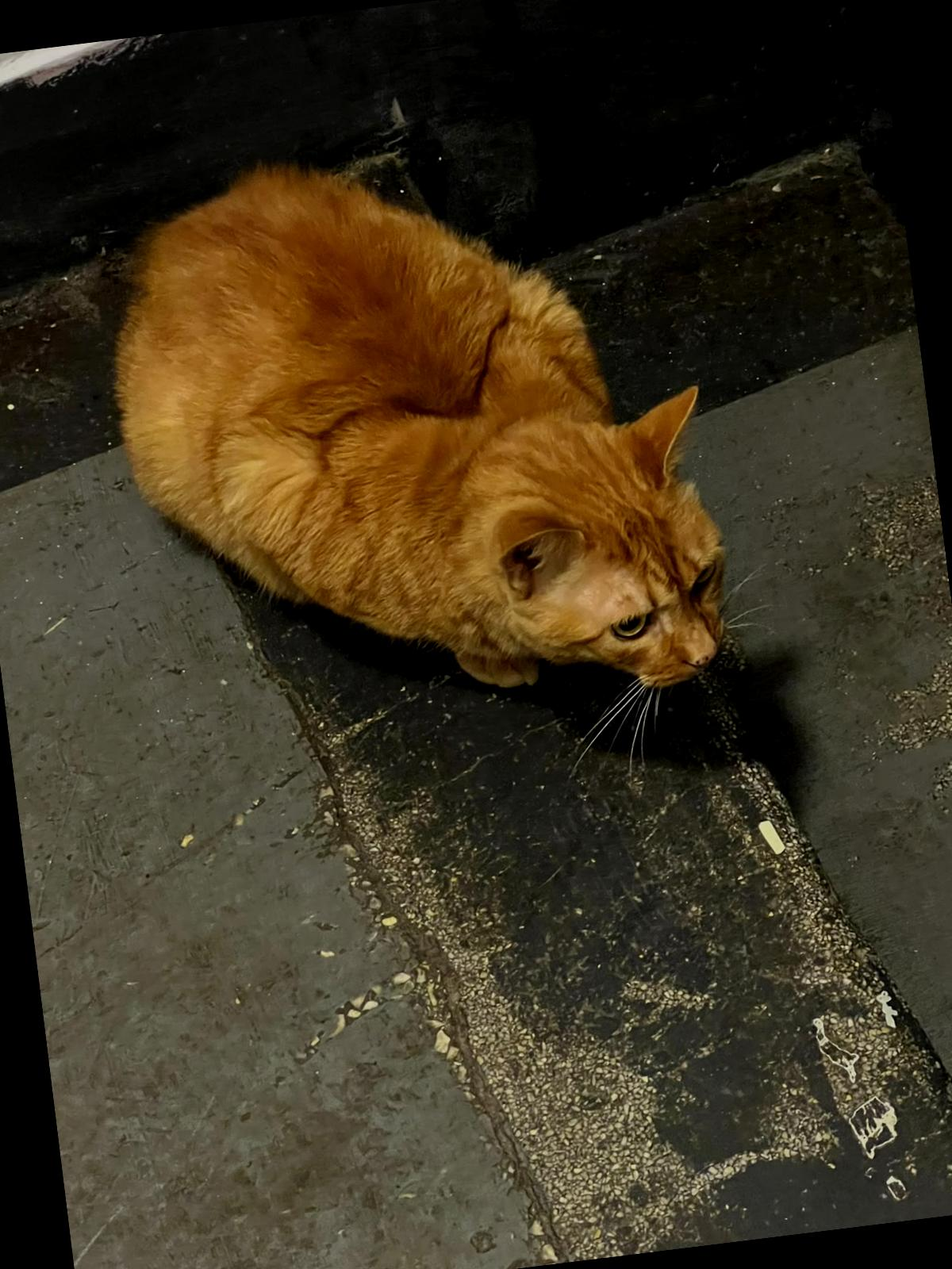macka: (87, 114, 748, 749)
